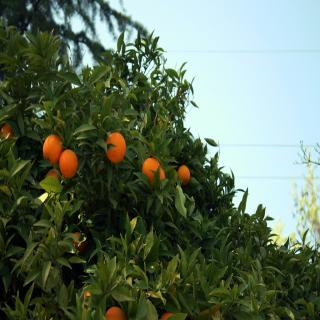Orange: (42, 135, 64, 166), (107, 132, 127, 164), (59, 150, 78, 179), (143, 159, 161, 185), (45, 167, 63, 184), (73, 232, 85, 255), (177, 166, 191, 185), (104, 308, 126, 320), (1, 124, 15, 140), (50, 292, 59, 312), (82, 291, 91, 310), (214, 309, 225, 320), (160, 312, 174, 320), (159, 167, 165, 184), (98, 160, 105, 174), (303, 316, 307, 319)
